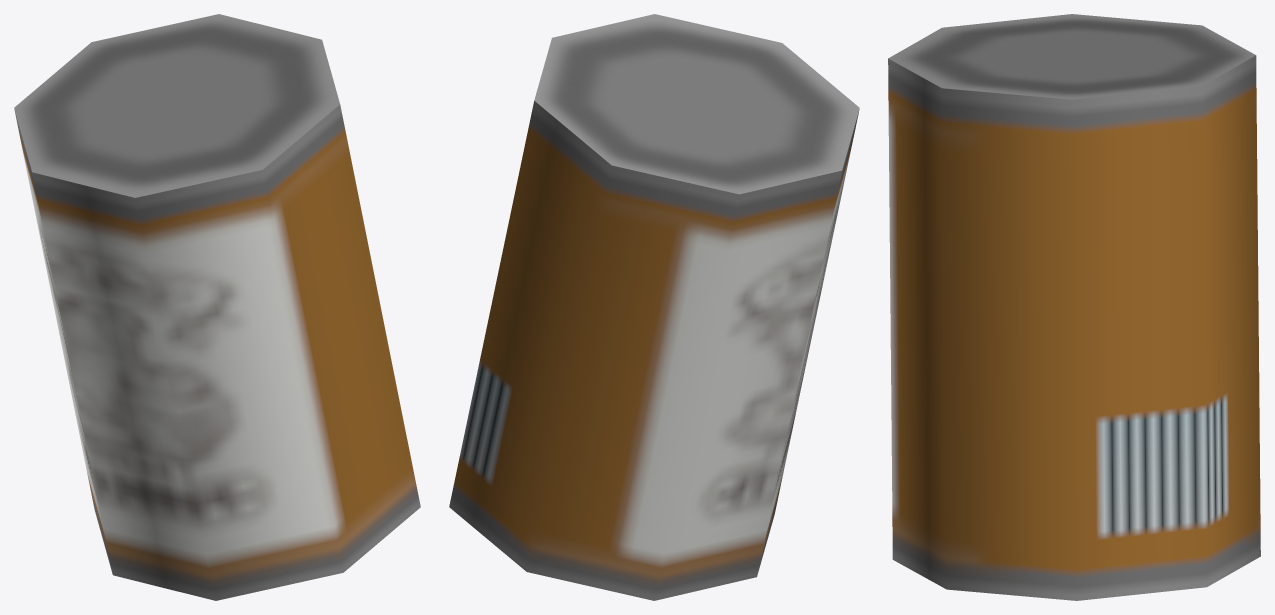
Rendered from AL_DulceLeche_Static.fbx.
3 views of the same model, side by side, from view 1: azimuth 30°, elevation 25°; view 2: azimuth 150°, elevation 25°; view 3: azimuth 270°, elevation 25° (orthographic). The views are drawn at different scales.
Visible parts, largest first — view 1: MyObj; view 2: MyObj; view 3: MyObj.
Boxes of the visible parts, bbox=[...] form: MyObj: bbox=[14, 14, 420, 600]; MyObj: bbox=[449, 14, 859, 600]; MyObj: bbox=[888, 14, 1260, 600].
Bounding box in the file's own units: 0.127 × 0.1972 × 0.158.
